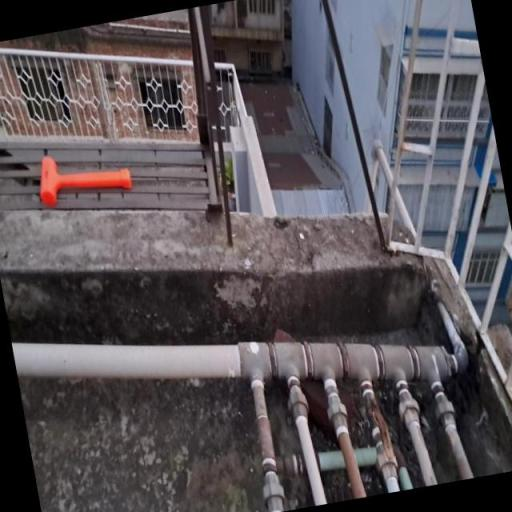mallet: (34, 142, 132, 208)
